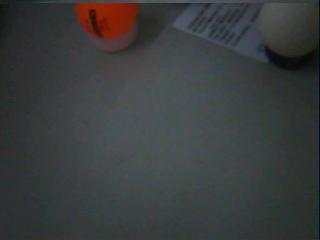oball: (75, 3, 137, 39)
